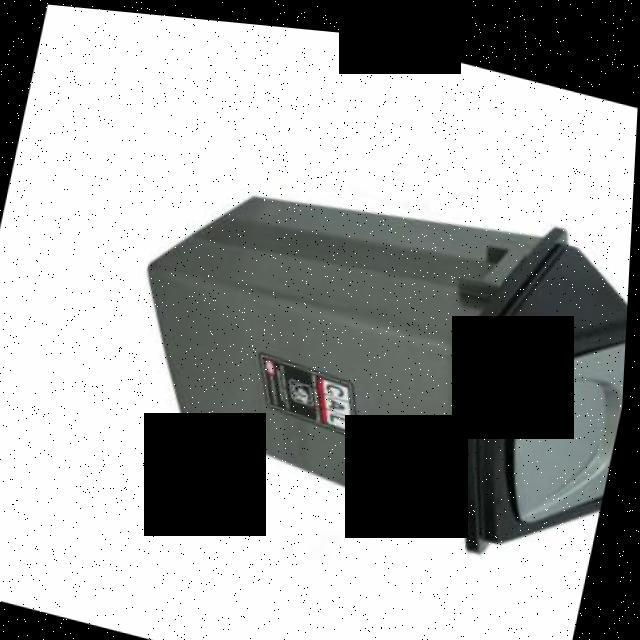bin: (85, 112, 635, 579)
